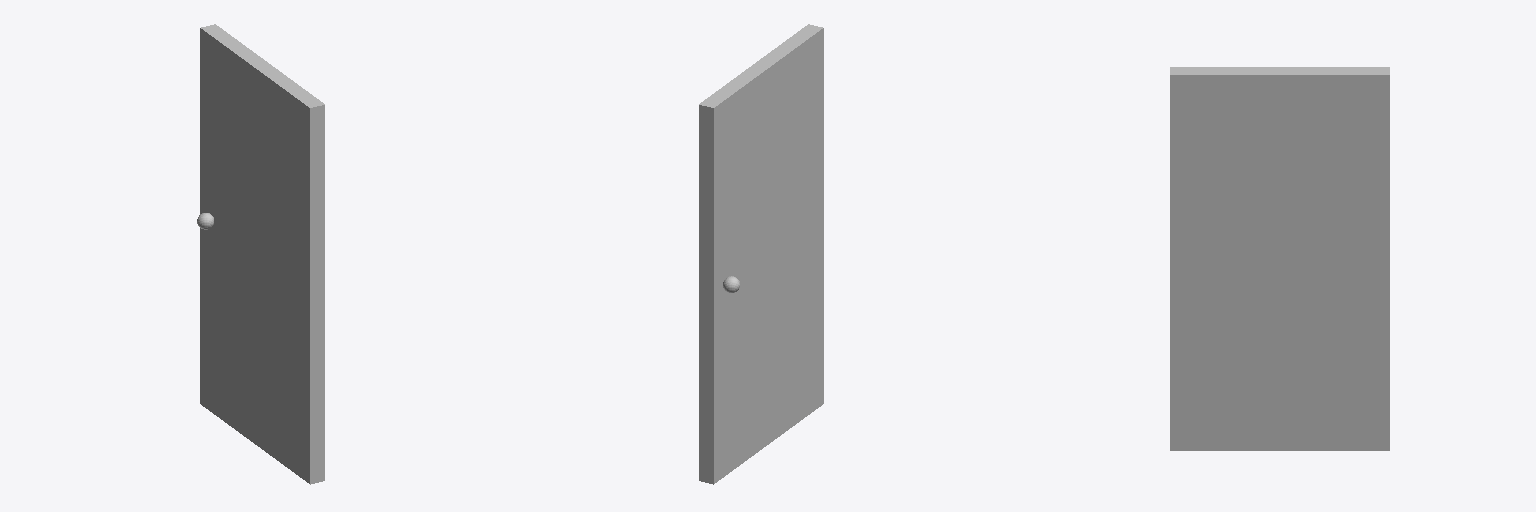
File: Door3.obj
3 renders of one model, left to right at view 1: azimuth 30°, elevation 25°; view 2: azimuth 150°, elevation 25°; view 3: azimuth 270°, elevation 25°, orthographic.
Visible parts, largest first — view 1: Door_Cube.005; view 2: Door_Cube.005; view 3: Door_Cube.005.
Part boxes in pixels (x1,y1,x2,y2): Door_Cube.005: (200, 24, 324, 484); Door_Cube.005: (699, 24, 823, 484); Door_Cube.005: (1170, 67, 1389, 450).
Bounding box in the file's own units: 0.1517 × 1.89 × 1.